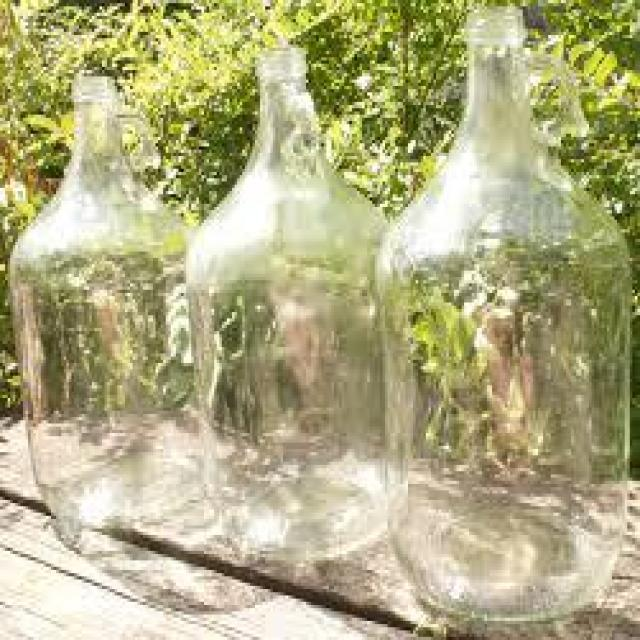non-organic waste: (374, 0, 632, 627), (8, 73, 209, 557)
